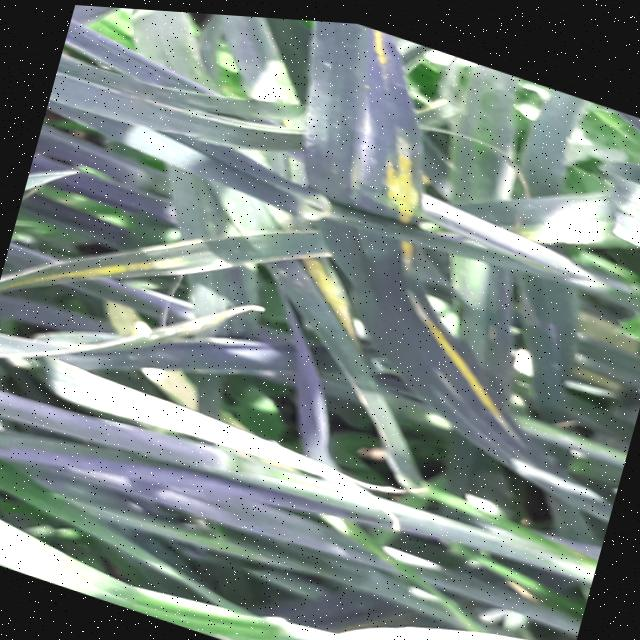yellow_rust: (13, 1, 640, 501)
